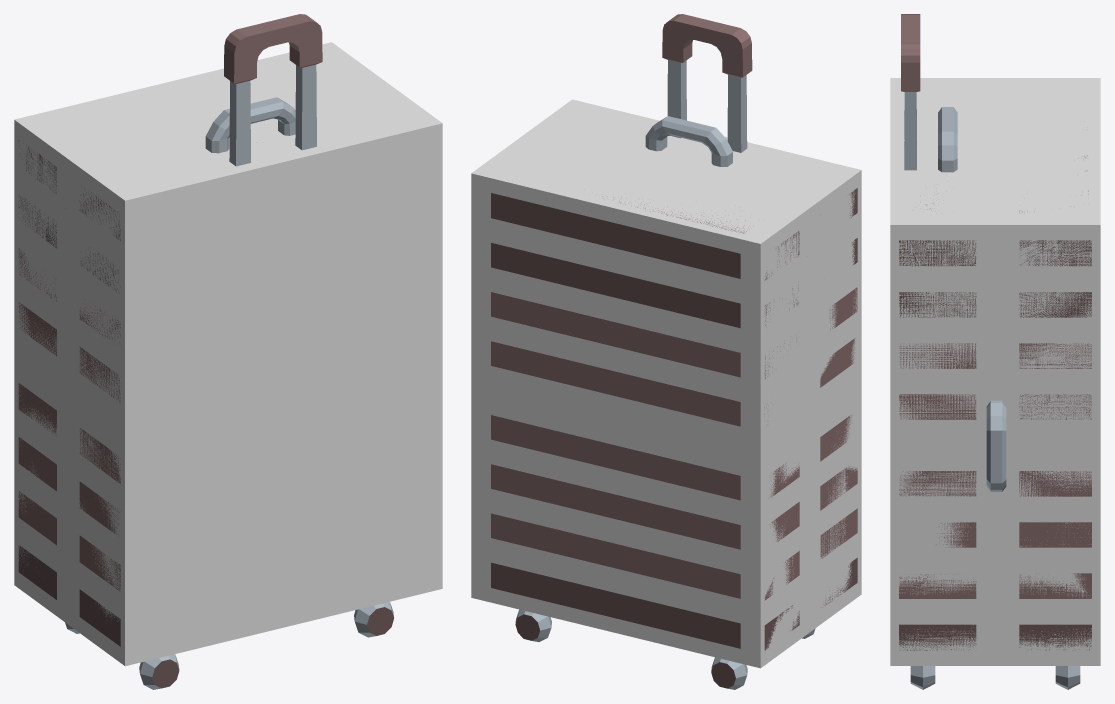
File: CabinLuggage.fbx
The picture shows the model from 3 angles, left to right: view 1: azimuth 30°, elevation 25°; view 2: azimuth 150°, elevation 25°; view 3: azimuth 270°, elevation 25°; orthographic projection. The views are drawn at different scales.
Parts seen in each view (by area): view 1: CabinLuggage_COL0, CabinLuggage_LOD0; view 2: CabinLuggage_COL0, CabinLuggage_LOD0; view 3: CabinLuggage_COL0, CabinLuggage_LOD0.
Part boxes in pixels (<box>): CabinLuggage_COL0: <box>14,42,442,666</box>; CabinLuggage_LOD0: <box>18,14,393,689</box>; CabinLuggage_COL0: <box>471,99,861,668</box>; CabinLuggage_LOD0: <box>491,14,857,689</box>; CabinLuggage_COL0: <box>890,78,1100,665</box>; CabinLuggage_LOD0: <box>899,14,1091,689</box>.
Size of what is drawn, in the model's own units: 111 by 198 by 62.18.
